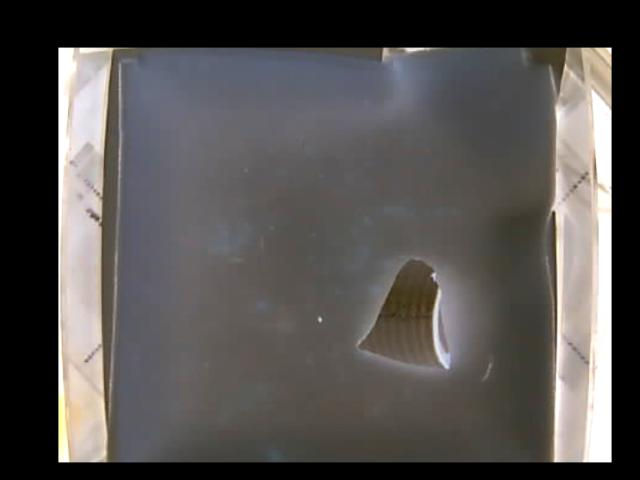China: (355, 261, 451, 370)
